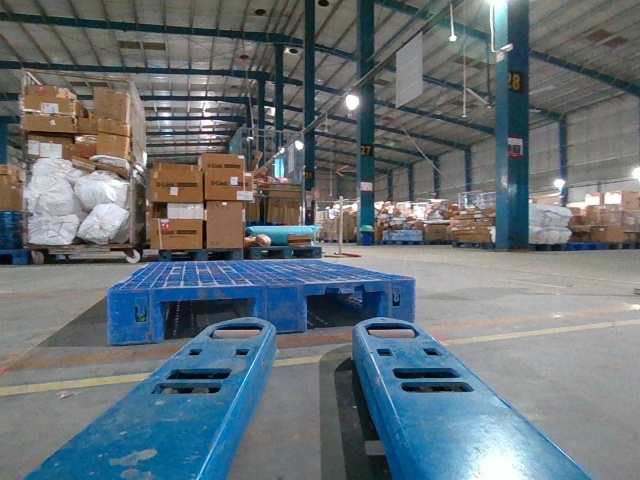pallet: (107, 276, 414, 341)
